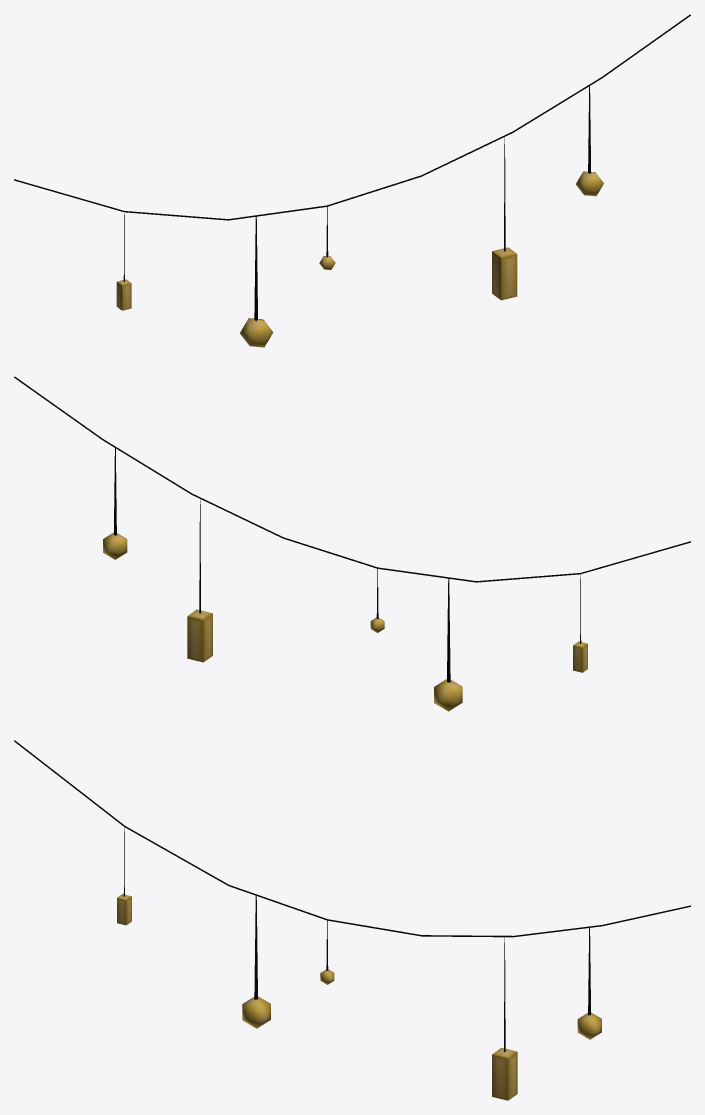
Rendered from Garland_A_5_SpherifyQuadLamps_Yellow.fbx.
3 renders of one model, top to bottom at view 1: azimuth 30°, elevation 25°; view 2: azimuth 150°, elevation 25°; view 3: azimuth 330°, elevation 25°, orthographic.
Parts seen in each view (by area): view 1: Garland_A_5_SpherifyQuadLamps_Yellow; view 2: Garland_A_5_SpherifyQuadLamps_Yellow; view 3: Garland_A_5_SpherifyQuadLamps_Yellow.
Boxes of the visible parts, x1,y1,x2,y2 form: Garland_A_5_SpherifyQuadLamps_Yellow: [14, 14, 690, 347]; Garland_A_5_SpherifyQuadLamps_Yellow: [14, 376, 690, 711]; Garland_A_5_SpherifyQuadLamps_Yellow: [14, 740, 690, 1100].
Size of the model in its own units: 673 by 225 by 29.13.
